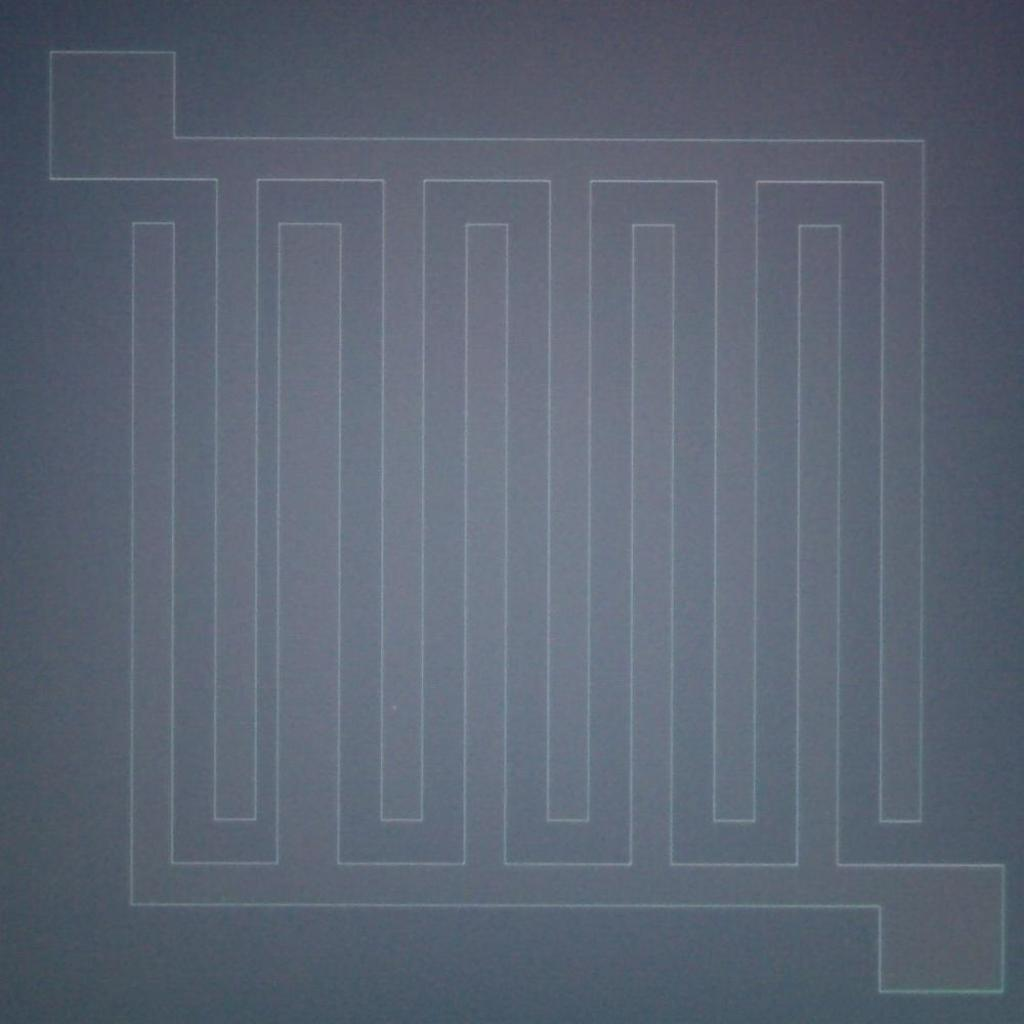fat circuit: (270, 210, 348, 890)
